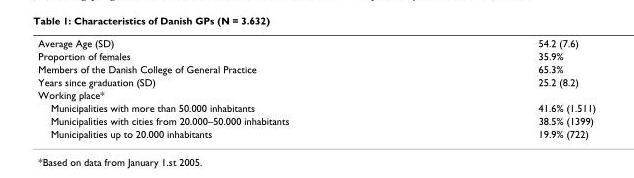table: (37, 36, 595, 139)
table column: (37, 36, 413, 139), (413, 36, 595, 139)
table projected row header: (37, 88, 595, 101)
table row: (37, 36, 595, 49), (37, 49, 595, 62), (37, 62, 595, 75), (37, 75, 595, 88), (37, 88, 595, 101), (37, 113, 595, 126), (37, 126, 595, 139), (37, 101, 595, 113)
